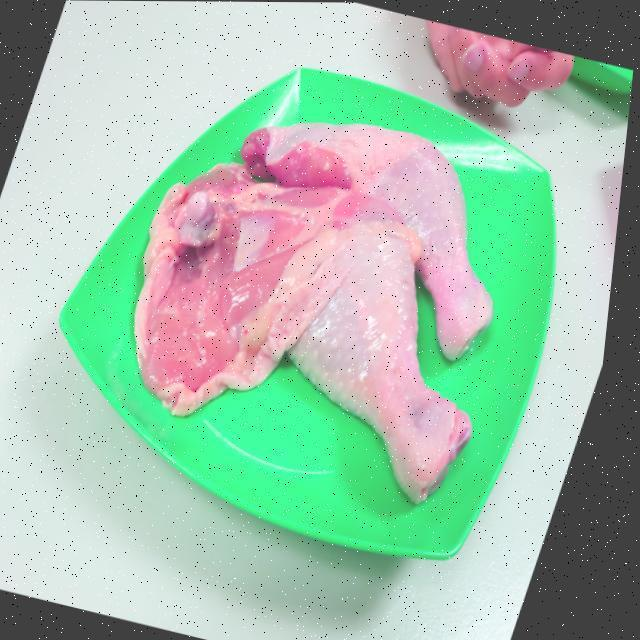quater: (154, 177, 456, 515), (236, 109, 484, 358)
